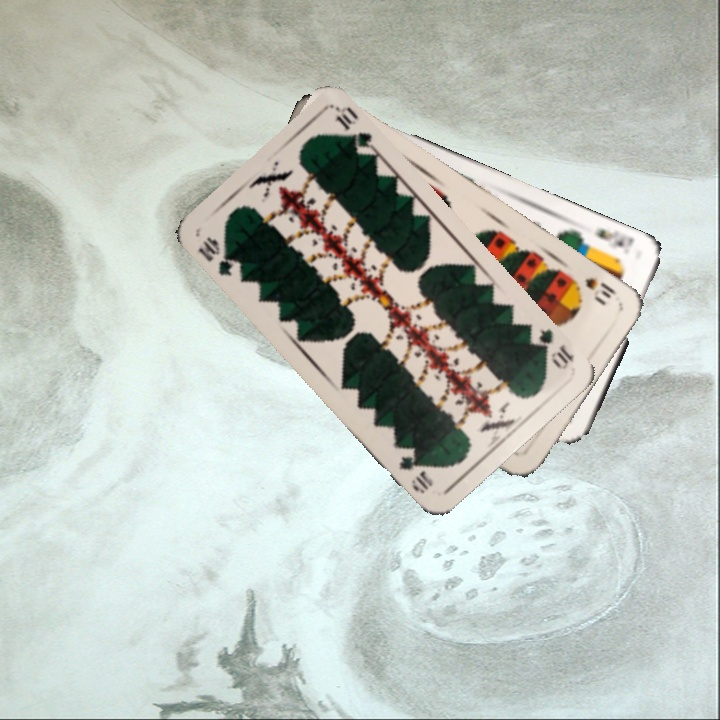EK: (590, 225, 637, 257)
G10: (525, 324, 577, 372), (194, 232, 239, 279)
S10: (581, 273, 620, 301)
